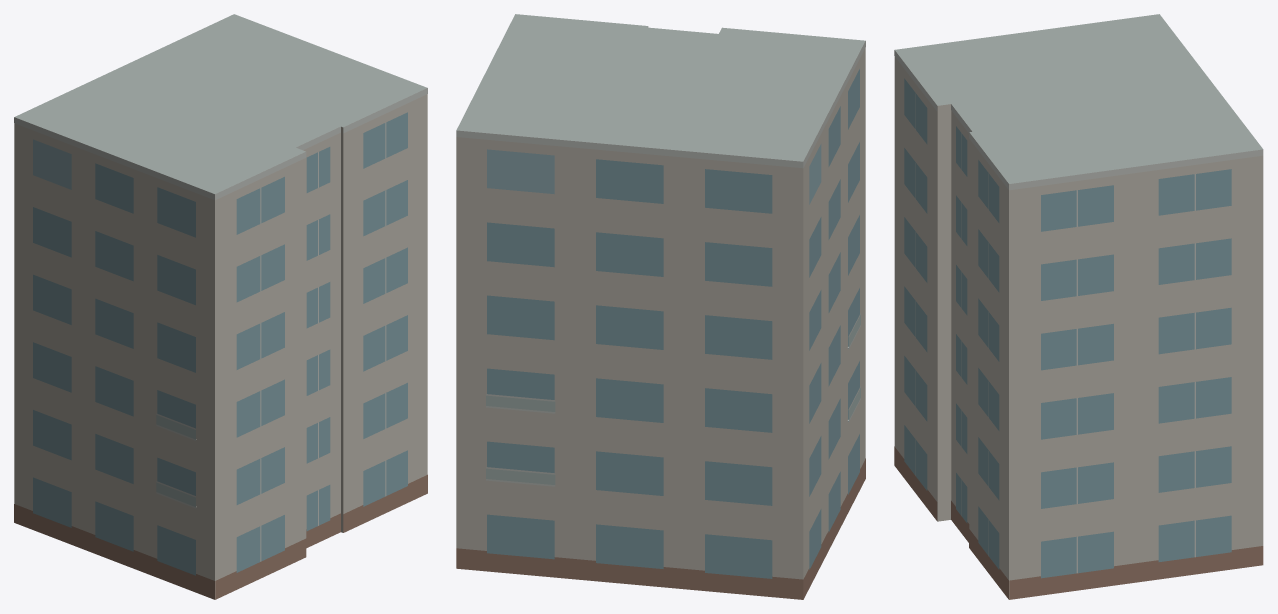
File: survey-upis-32915841.glb
The picture shows the model from 3 angles, left to right: view 1: azimuth 30°, elevation 25°; view 2: azimuth 150°, elevation 25°; view 3: azimuth 270°, elevation 25°; orthographic projection. The views are drawn at different scales.
Parts seen in each view (by area): view 1: survey-upis-32915841.tmp; view 2: survey-upis-32915841.tmp; view 3: survey-upis-32915841.tmp.
Part boxes in pixels (x1,y1,x2,y2): survey-upis-32915841.tmp: (14,14,427,599); survey-upis-32915841.tmp: (456,14,865,599); survey-upis-32915841.tmp: (894,14,1263,599).
Size of the model in its own units: 14.31 by 16.3 by 13.12.
